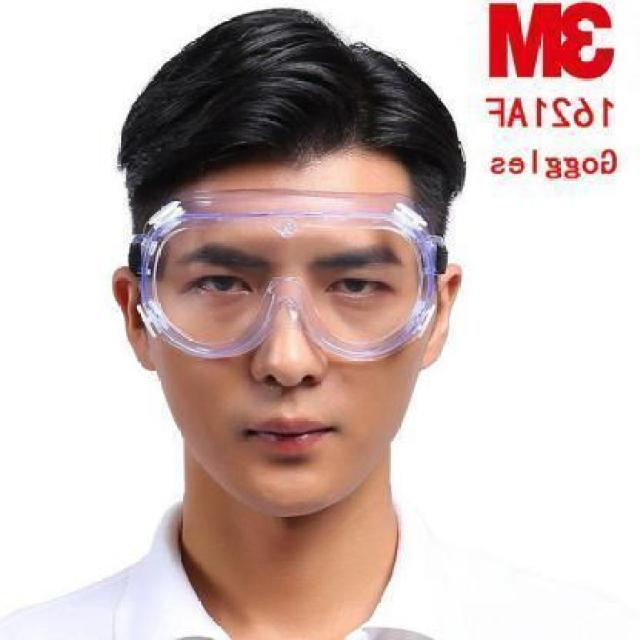face_nomask: (167, 253, 408, 473)
glasses: (128, 190, 448, 361)
head_nohelmet: (124, 32, 450, 190)
